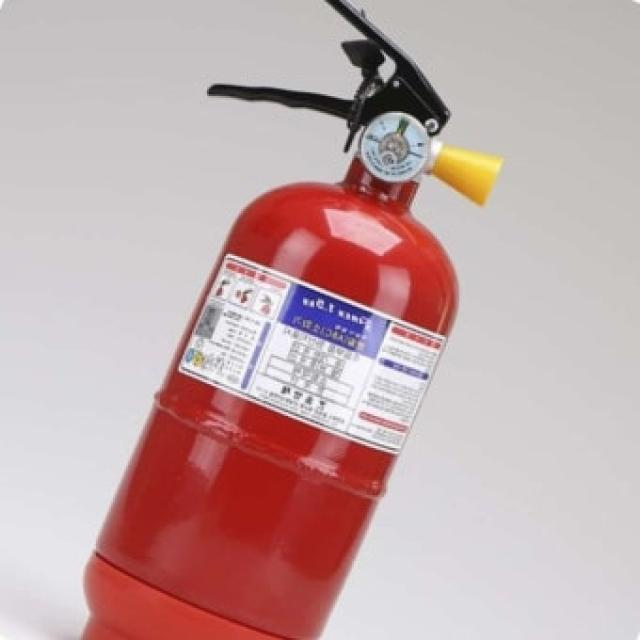pressure gauge: (360, 112, 431, 182)
